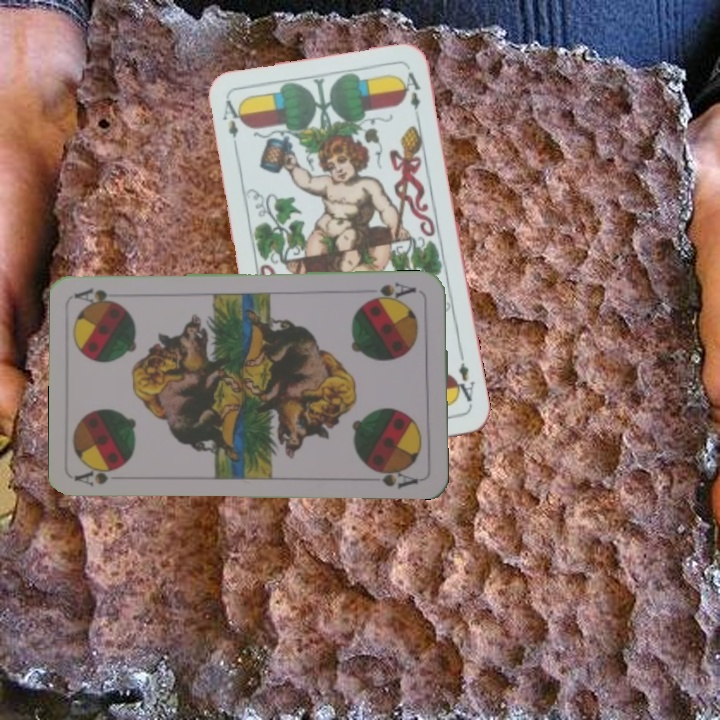EA: (218, 95, 244, 155), (449, 349, 477, 404)
SA: (364, 278, 423, 304), (73, 462, 127, 489)
